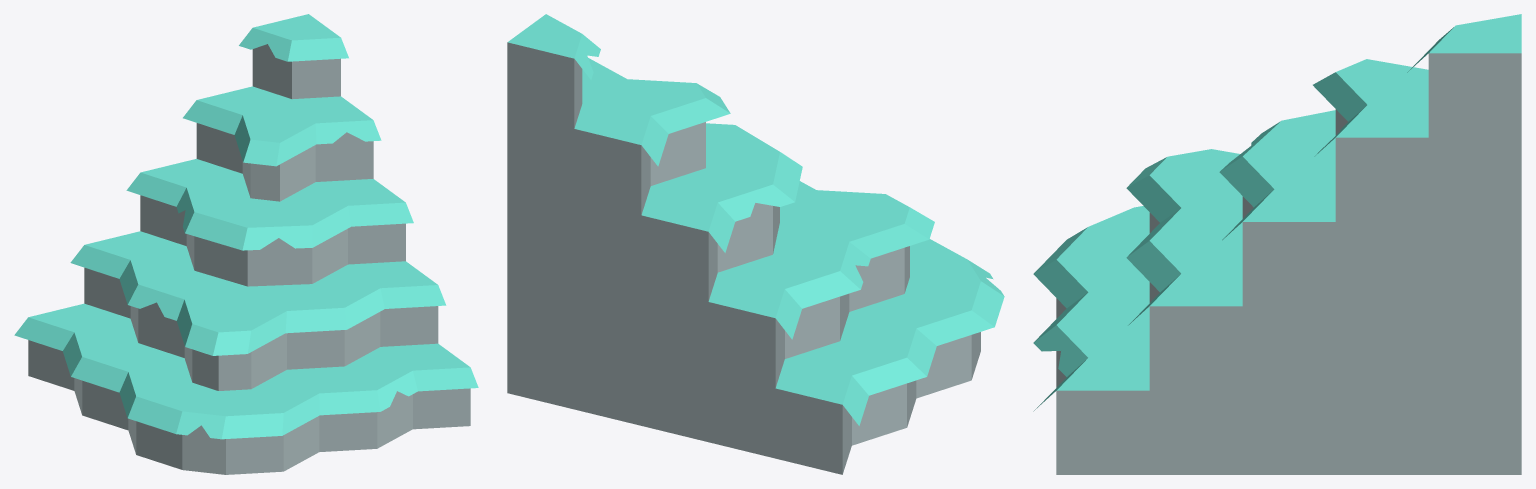
The model's file is cliff_stepsCorner_stone.gltf.
The picture shows the model from 3 angles, left to right: view 1: azimuth 30°, elevation 25°; view 2: azimuth 150°, elevation 25°; view 3: azimuth 270°, elevation 25°; orthographic projection. The views are drawn at different scales.
Visible parts, largest first — view 1: cliff_stepsCorner_stone; view 2: cliff_stepsCorner_stone; view 3: cliff_stepsCorner_stone.
Boxes of the visible parts, x1,y1,x2,y2 form: cliff_stepsCorner_stone: [14, 14, 478, 474]; cliff_stepsCorner_stone: [507, 14, 1004, 474]; cliff_stepsCorner_stone: [1033, 14, 1521, 474].
Size of the model in its own units: 1.05 by 1 by 1.05.
